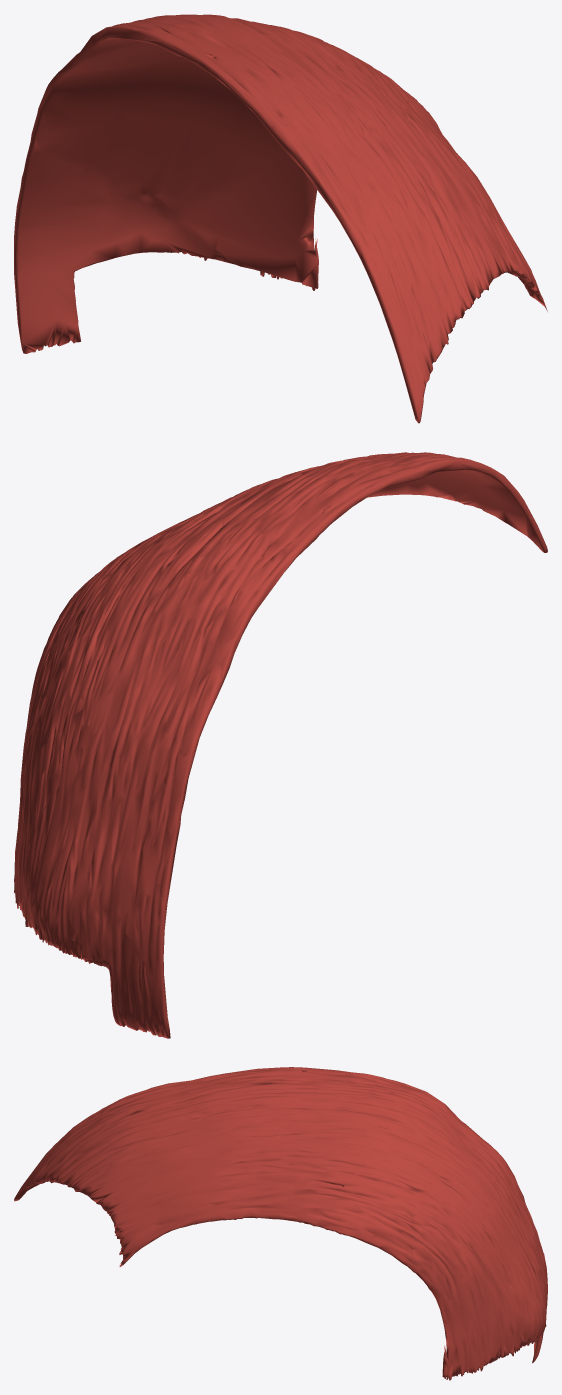
The model's file is musculos-epicranial-aponeurosis-l.glb.
The picture shows the model from 3 angles, top to bottom: view 1: azimuth 30°, elevation 25°; view 2: azimuth 150°, elevation 25°; view 3: azimuth 270°, elevation 25°; orthographic projection. The views are drawn at different scales.
Parts seen in each view (by area): view 1: Epicranial aponeurosis.l; view 2: Epicranial aponeurosis.l; view 3: Epicranial aponeurosis.l.
Part boxes in pixels (x1,y1,x2,y2): Epicranial aponeurosis.l: (14,14,547,423); Epicranial aponeurosis.l: (14,452,547,1038); Epicranial aponeurosis.l: (14,1067,547,1380).
Bounding box in the file's own units: 0.0669 × 0.1091 × 0.1885.
